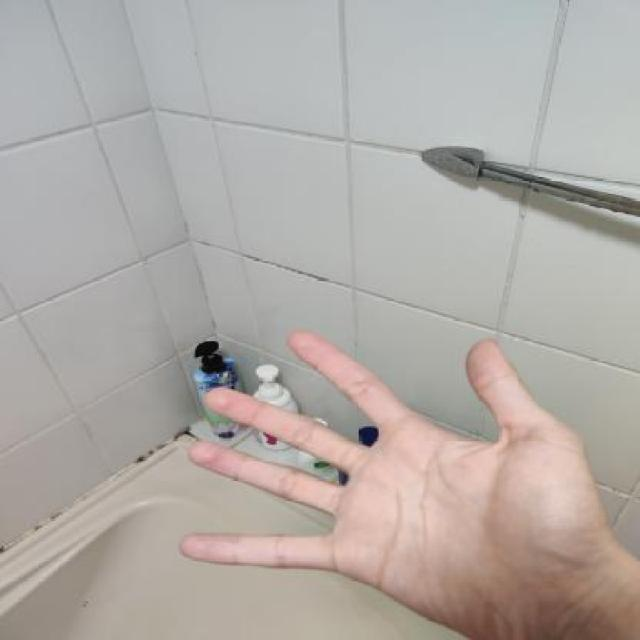no_glove: (168, 324, 621, 636)
